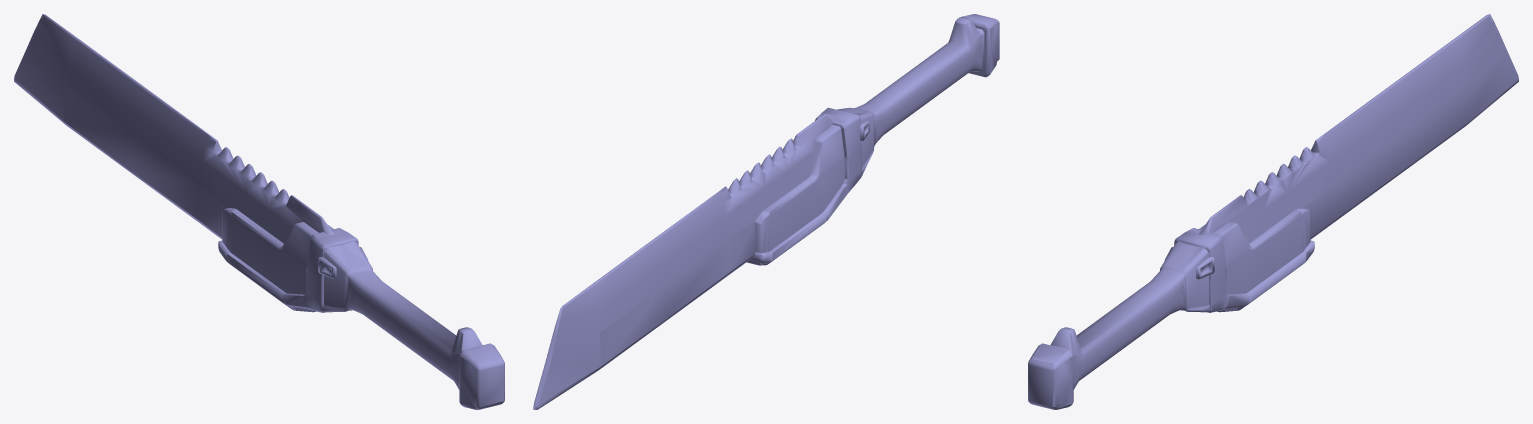
Rendered from Ronin_Sword LOD0.fbx.
3 views of the same model, side by side, from view 1: azimuth 30°, elevation 25°; view 2: azimuth 150°, elevation 25°; view 3: azimuth 330°, elevation 25° (orthographic). The views are drawn at different scales.
Parts seen in each view (by area): view 1: w_titan_sword_lod0; view 2: w_titan_sword_lod0; view 3: w_titan_sword_lod0.
Boxes of the visible parts, x1,y1,x2,y2 form: w_titan_sword_lod0: (14, 14, 504, 409); w_titan_sword_lod0: (533, 14, 999, 409); w_titan_sword_lod0: (1028, 14, 1518, 409).
Size of the model in its own units: 913 by 2063 by 17803.
